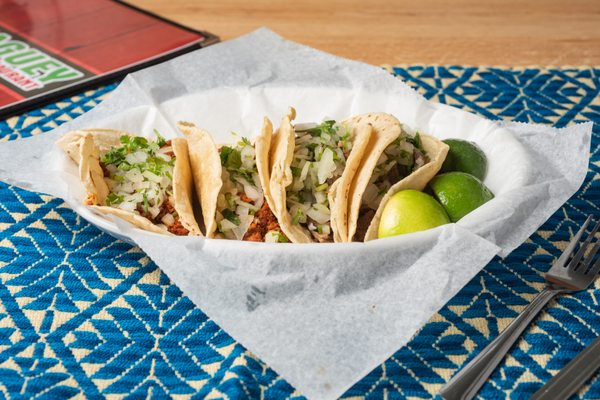burger: (437, 212, 600, 395)
